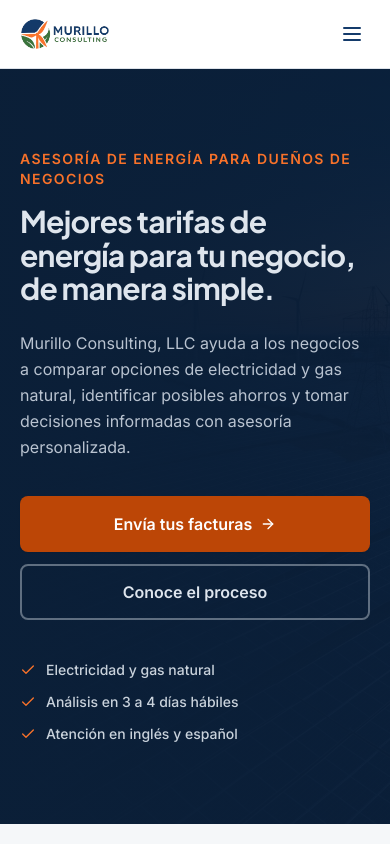
Scenario: navigation › opens the mobile menu and shows translated links plus the language selector
This screenshot has width=390, height=844.
Expected: the heading "Mejores tarifas de energía para tu negocio, de manera simple." is shown, [20, 205, 370, 306]
Click the button named "Abrir el menú de navegación".
click(352, 34)  # box [330, 12, 374, 56]
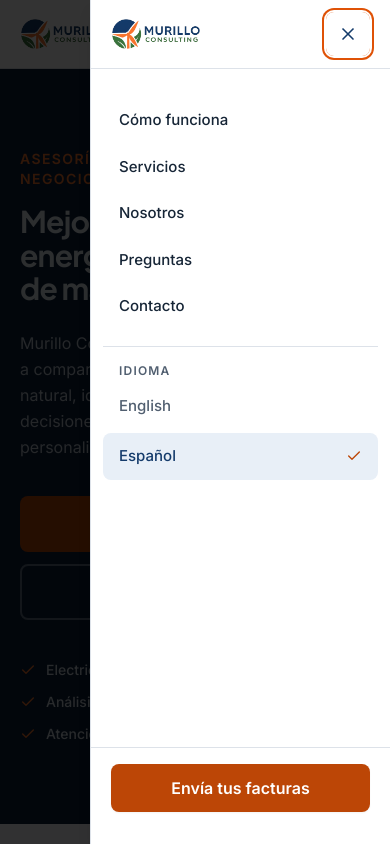
Now the dialog shows "Cómo funciona", box [103, 97, 378, 144]
Now the dialog shows "Contacto", box [103, 283, 378, 330]
Now the dialog shows "Idioma", box [119, 362, 170, 378]
